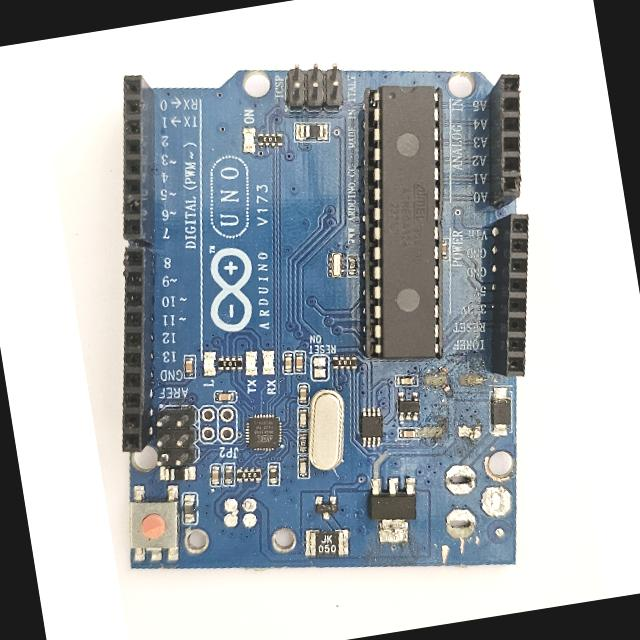missing_capacitors: (419, 368, 489, 444)
missing_eps: (430, 456, 499, 563)
missing_usb: (198, 486, 297, 567)
